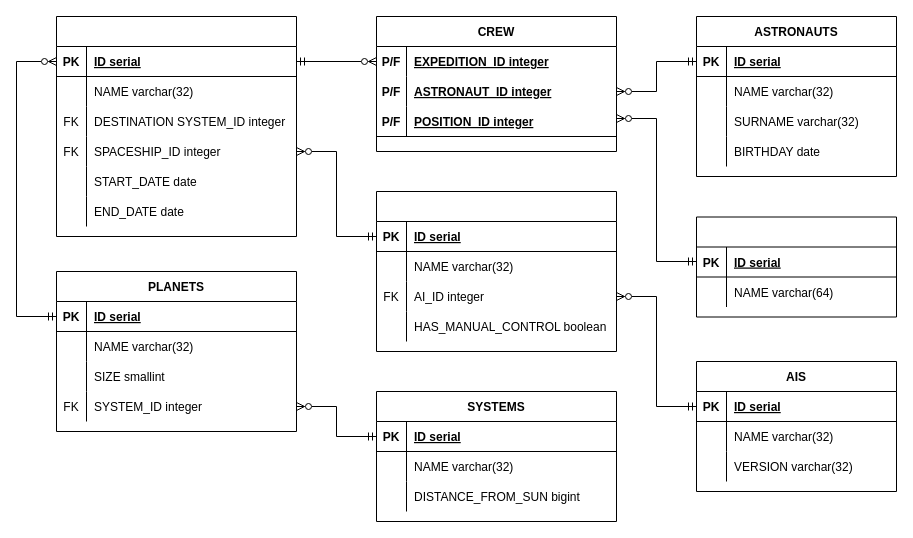
Image size: 913x538. Some labels were removed from this diagram. Each missing label, with the box of its shape:
EXPEDITIONS: (56, 16, 296, 236)
POSITIONS: (696, 216, 896, 317)
SPACESHIPS: (376, 190, 616, 352)
